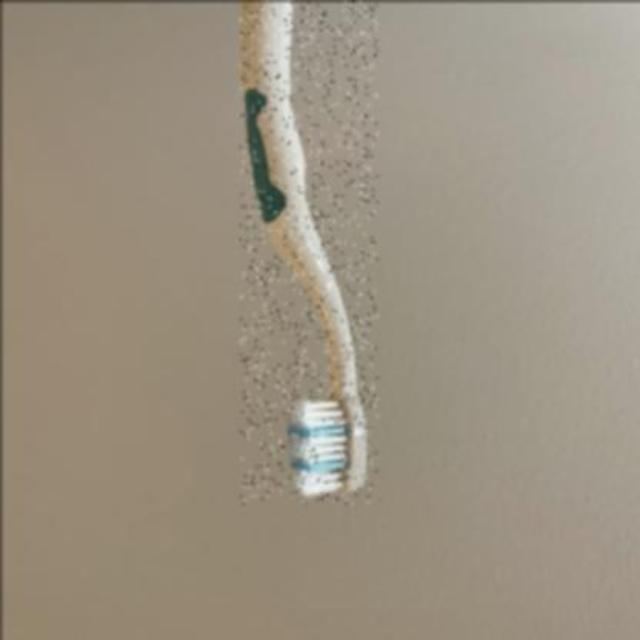toothbrush: (239, 1, 377, 503)
